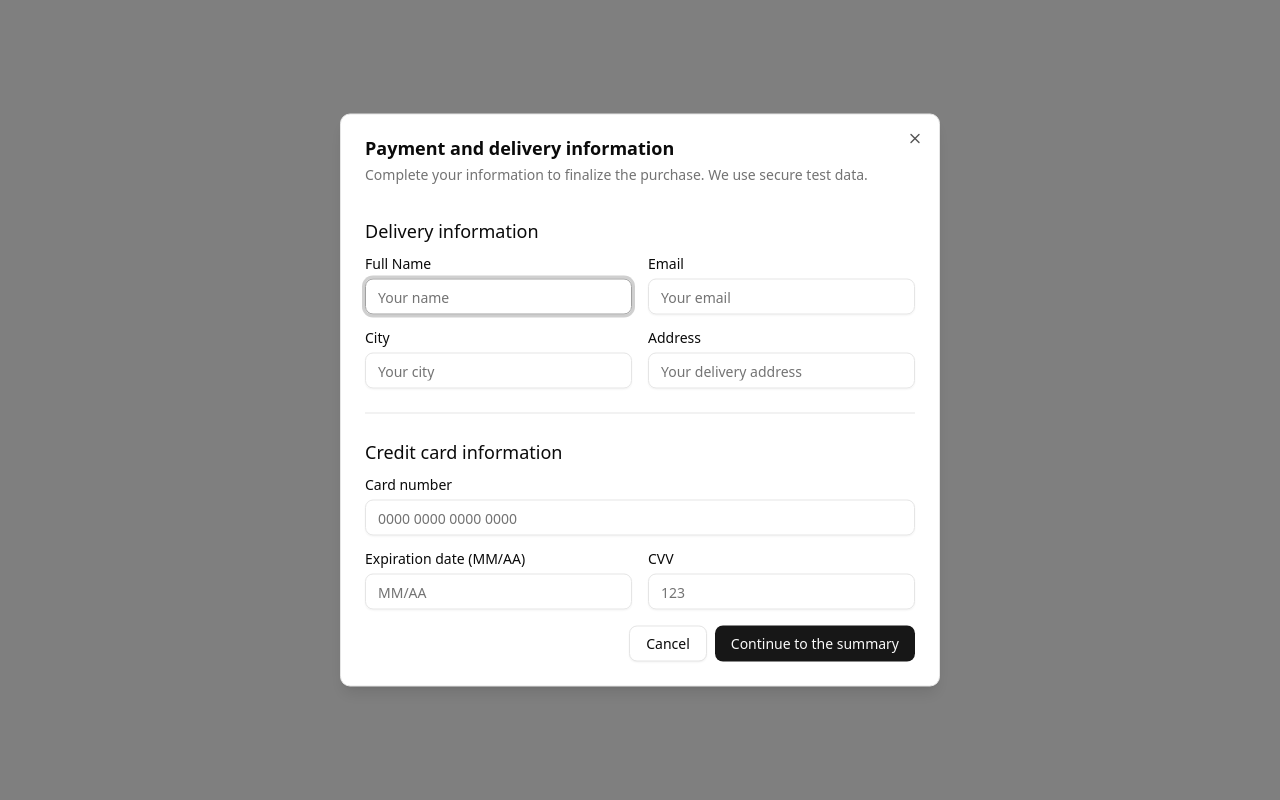
CheckoutModal › Validación de formulario › debería validar el formato del número de tarjeta
Note: Número de tarjeta inválido
Type "1234" into the field labelled "Card number" at (640, 518), box left=365, top=500, right=915, bottom=536
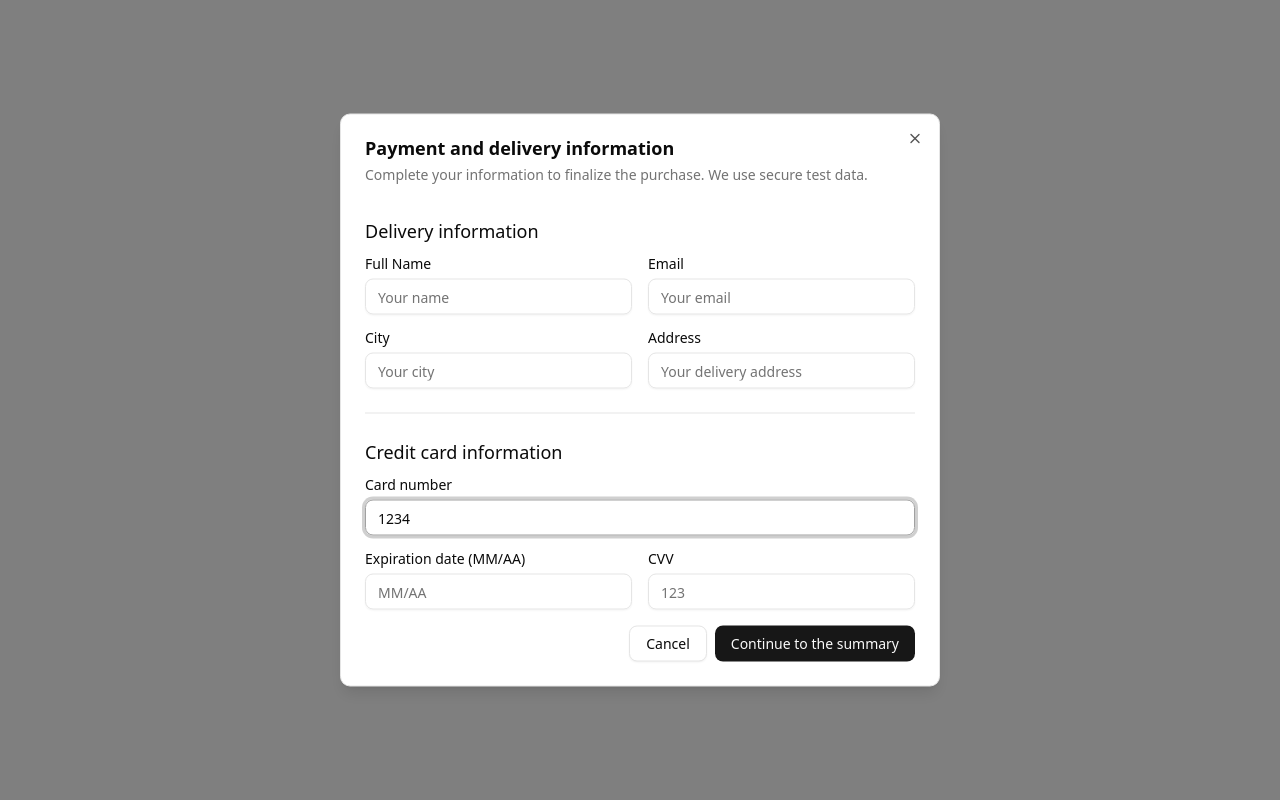
Click the button "Continue to the summary" at (815, 644), box left=715, top=626, right=915, bottom=662
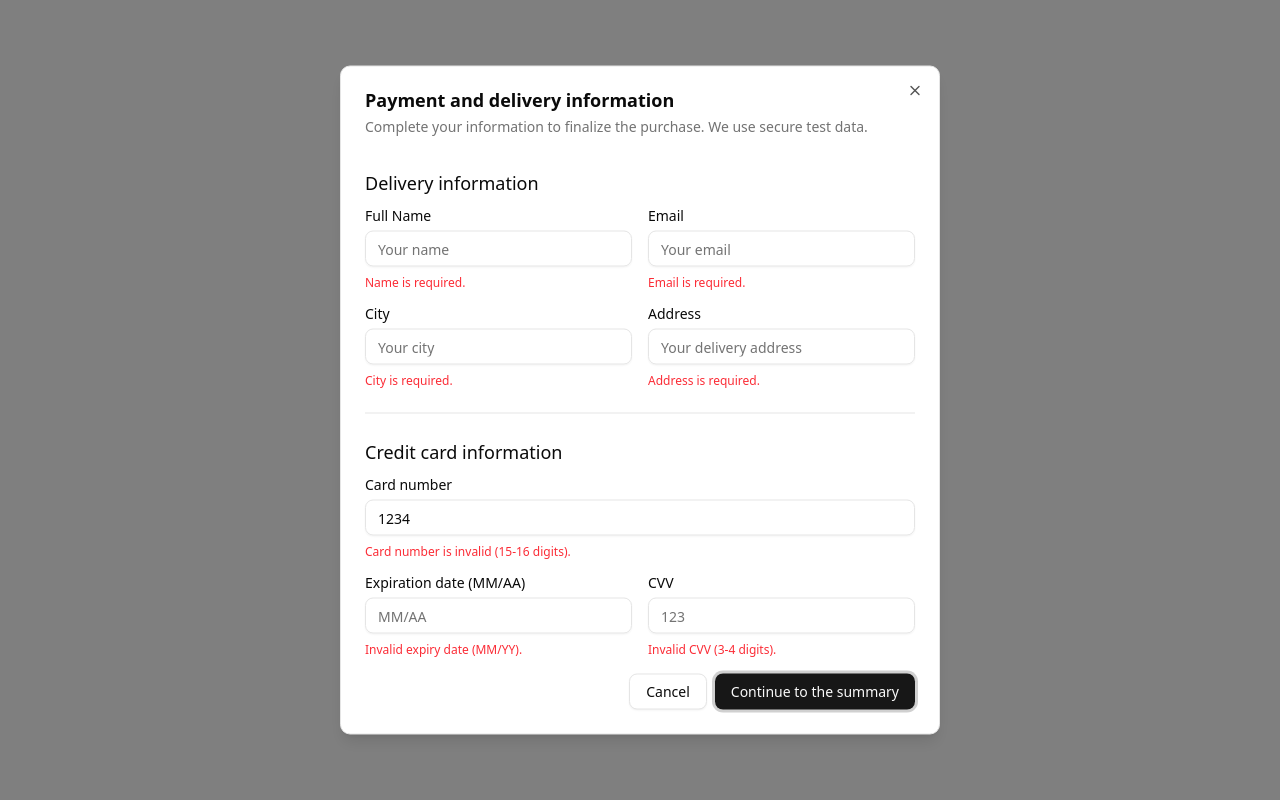
Now the text "Card number is invalid (15-16 digits)." is shown, box left=365, top=542, right=571, bottom=560
